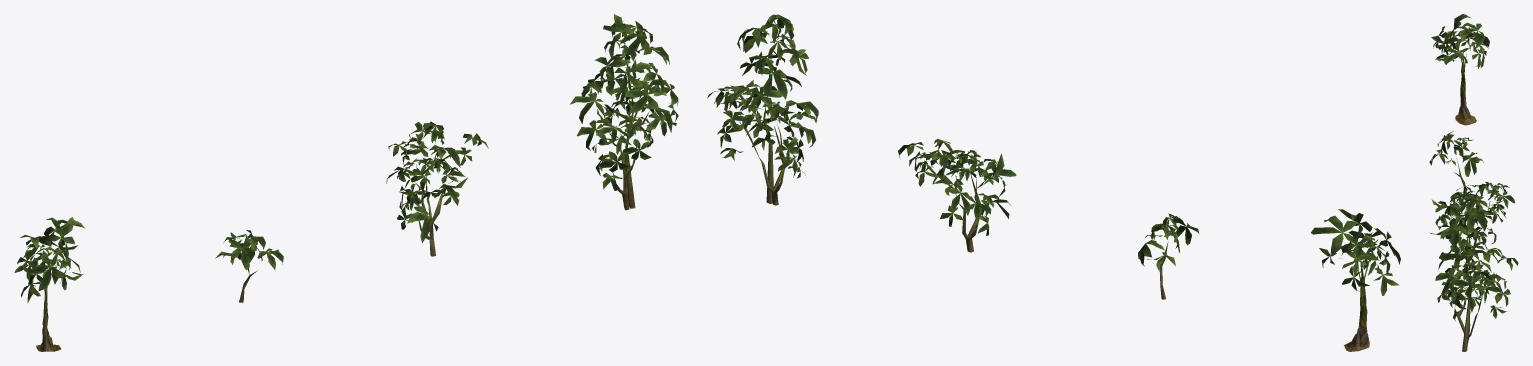
File: pachira_aquatica_01.glb
3 renders of one model, left to right at view 1: azimuth 30°, elevation 25°; view 2: azimuth 150°, elevation 25°; view 3: azimuth 270°, elevation 25°, orthographic. The views are drawn at different scales.
Parts seen in each view (by area): view 1: pachira_aquatica_01_leaves_a, pachira_aquatica_01_bark_a; view 2: pachira_aquatica_01_leaves_a, pachira_aquatica_01_bark_a; view 3: pachira_aquatica_01_leaves_a, pachira_aquatica_01_bark_a.
Boxes of the visible parts, box(x1,y1,x2,y2) form: pachira_aquatica_01_leaves_a: box(14, 14, 678, 303); pachira_aquatica_01_bark_a: box(36, 45, 651, 351); pachira_aquatica_01_leaves_a: box(707, 14, 1400, 295); pachira_aquatica_01_bark_a: box(738, 55, 1369, 351); pachira_aquatica_01_leaves_a: box(1429, 14, 1518, 321); pachira_aquatica_01_bark_a: box(1447, 50, 1495, 351).
Size of the model in its own units: 6.87 by 1.89 by 0.9824.
Materials: 2 (2 with a texture image).
